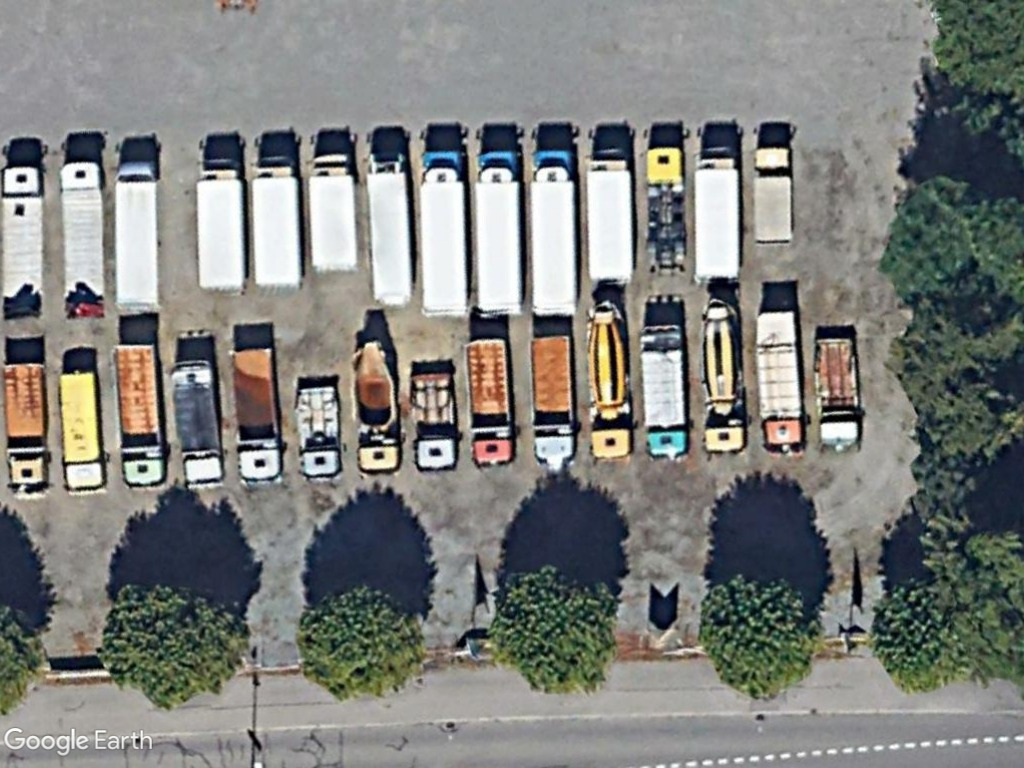others: (752, 306, 810, 457), (110, 341, 168, 488), (165, 359, 226, 490), (230, 346, 287, 486), (462, 336, 519, 467), (0, 360, 54, 498), (527, 333, 581, 468), (812, 333, 864, 453), (409, 368, 461, 473), (294, 380, 344, 484)
truck: (469, 147, 529, 321), (414, 148, 469, 317), (527, 145, 579, 320), (246, 155, 307, 291), (111, 158, 163, 313), (191, 157, 249, 295), (367, 148, 417, 308), (689, 147, 747, 284), (55, 157, 107, 303), (301, 150, 361, 275), (584, 150, 638, 288), (638, 321, 691, 459), (57, 368, 108, 496), (0, 163, 45, 306), (752, 142, 795, 249)
